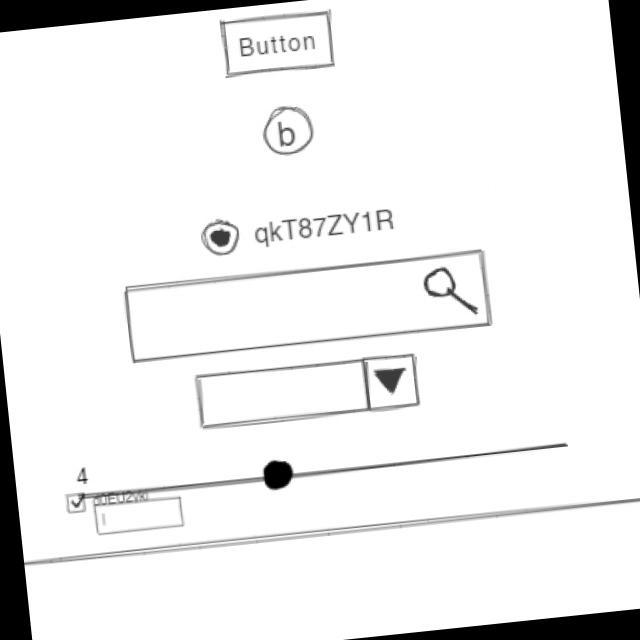button: (218, 8, 339, 79)
checkbox: (65, 486, 149, 516)
container: (24, 489, 640, 640)
icon-button: (259, 102, 319, 159)
input: (93, 495, 187, 539)
radio: (198, 199, 399, 260)
search: (120, 245, 496, 370)
select: (192, 349, 424, 434)
slider: (154, 429, 573, 506)
